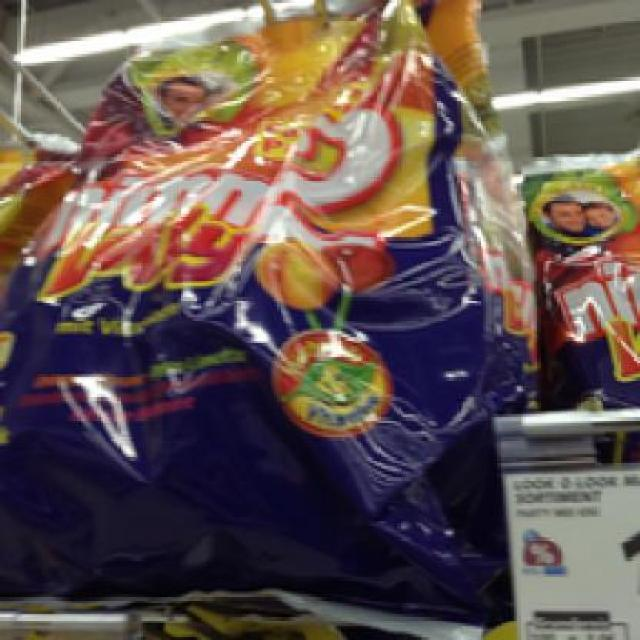Candy: (39, 17, 492, 460)
